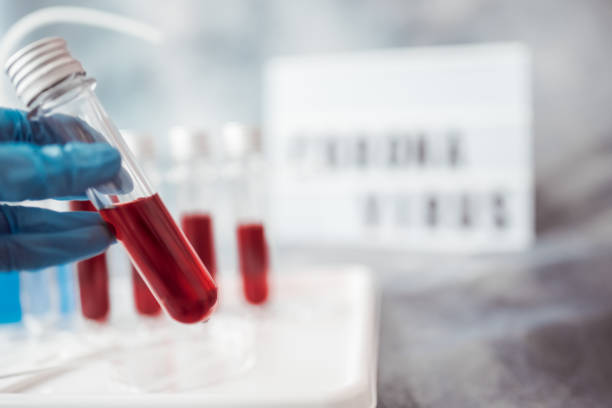blood: (94, 191, 219, 327), (68, 199, 111, 325), (233, 218, 272, 306), (177, 207, 216, 282), (129, 258, 165, 320)
